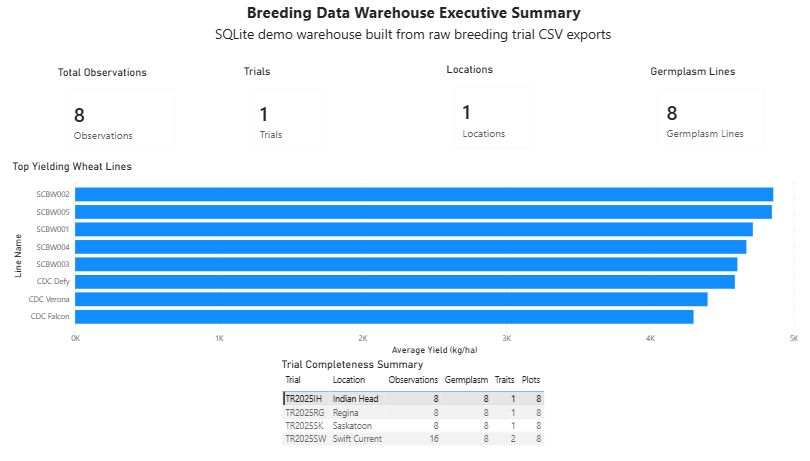

The page's visual inventory and layout, read from the dashboard file:
{"tool":"powerbi","page":{"name":"Executive Summary","canvas":[1280,720],"ordinal":0},"visuals":[{"type":"clusteredBarChart","title":"Top Yielding Wheat Lines","fields":{"Category":["Top Yielding Lines.line_name"],"Y":["Avg(Top Yielding Lines.avg_yield_kg_ha)"]},"box":[22.8,252.9,1237,309.8],"z":0},{"type":"tableEx","title":"Trial Completeness Summary","fields":{"Values":["Trial Completeness.trial_id","Trial Completeness.location_name","Trial Completeness.observation_count","Trial Completeness.germplasm_count","Trial Completeness.trait_count","Trial Completeness.plot_count"]},"box":[444.1,562.2,427.6,158.3],"z":1000},{"type":"cardVisual","title":"Trials","fields":{"Data":["Count(Trial Completeness.trial_id)"]},"box":[385,103.9,151.2,151.2],"z":2000},{"type":"cardVisual","title":"Locations","fields":{"Data":["Count(Trial Completeness.location_name)"]},"box":[701.6,101.6,153.5,151.2],"z":3000},{"type":"textbox","box":[361.4,0,588.2,56.7],"z":4000},{"type":"textbox","box":[340.2,35.4,635.4,44.9],"z":5000},{"type":"cardVisual","title":"Germplasm Lines","fields":{"Data":["Count(Top Yielding Lines.line_name)"]},"box":[1020.5,103.9,200.8,148.8],"z":6000},{"type":"cardVisual","title":"Total Observations","fields":{"Data":["Sum(Trial Completeness.observation_count)"]},"box":[94.5,106.3,205.5,148.8],"z":7000}]}

Visuals, with their boxes in screenshot pixels (x1, y1, x2, y2), scaled from the page's 1280x720 canvas onto the 810x461 screenshot:
"Top Yielding Wheat Lines" clusteredBarChart: [14, 162, 797, 360]
"Trial Completeness Summary" tableEx: [281, 360, 552, 460]
"Trials" cardVisual: [244, 67, 339, 163]
"Locations" cardVisual: [444, 65, 541, 162]
textbox: [229, 0, 601, 36]
textbox: [215, 23, 617, 51]
"Germplasm Lines" cardVisual: [646, 67, 773, 162]
"Total Observations" cardVisual: [60, 68, 190, 163]
